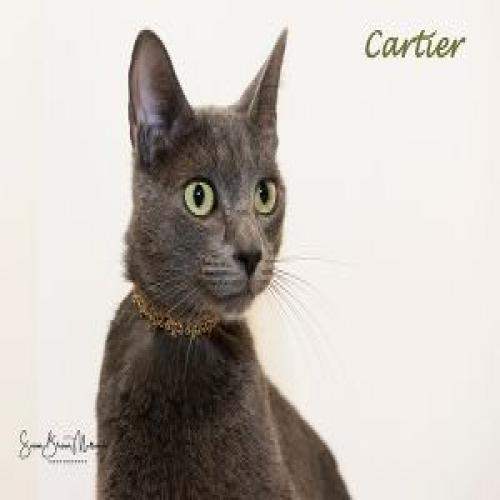rblue: (115, 23, 307, 332)
